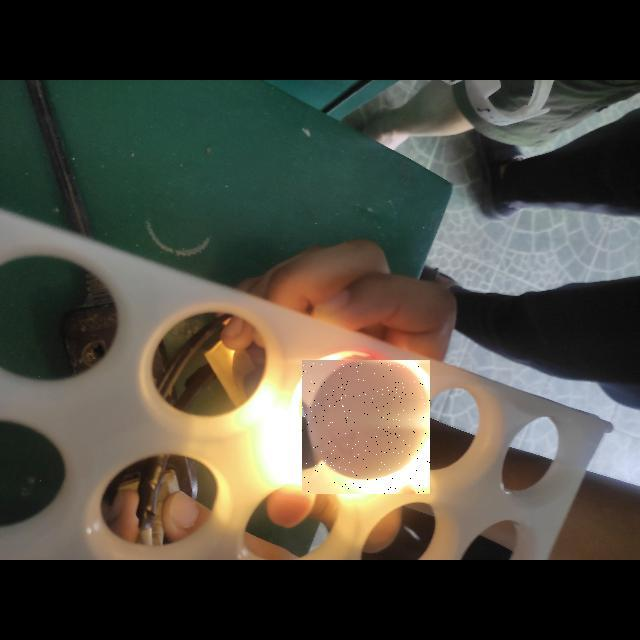Fertile: (302, 360, 430, 494)
